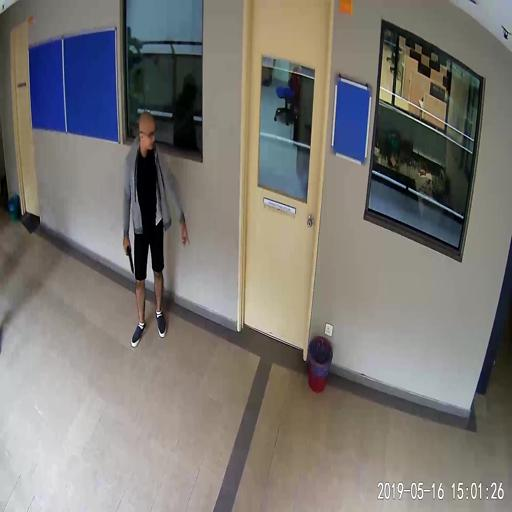pistol: (123, 238, 133, 273)
